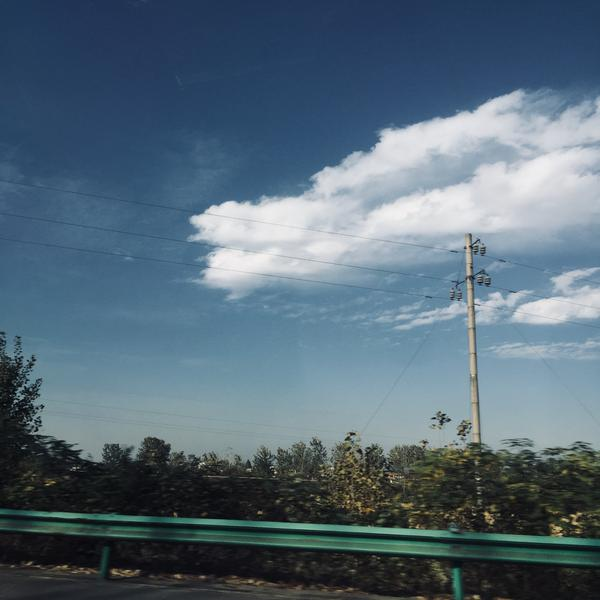utility_pole: (441, 226, 498, 324)
